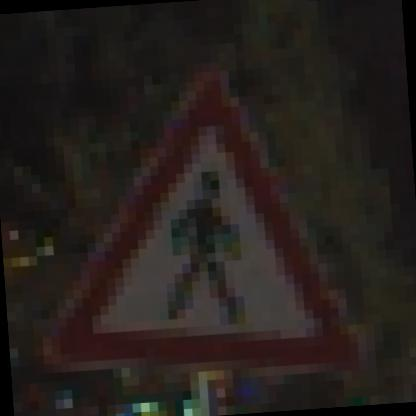crosswalk: (16, 21, 388, 405)
